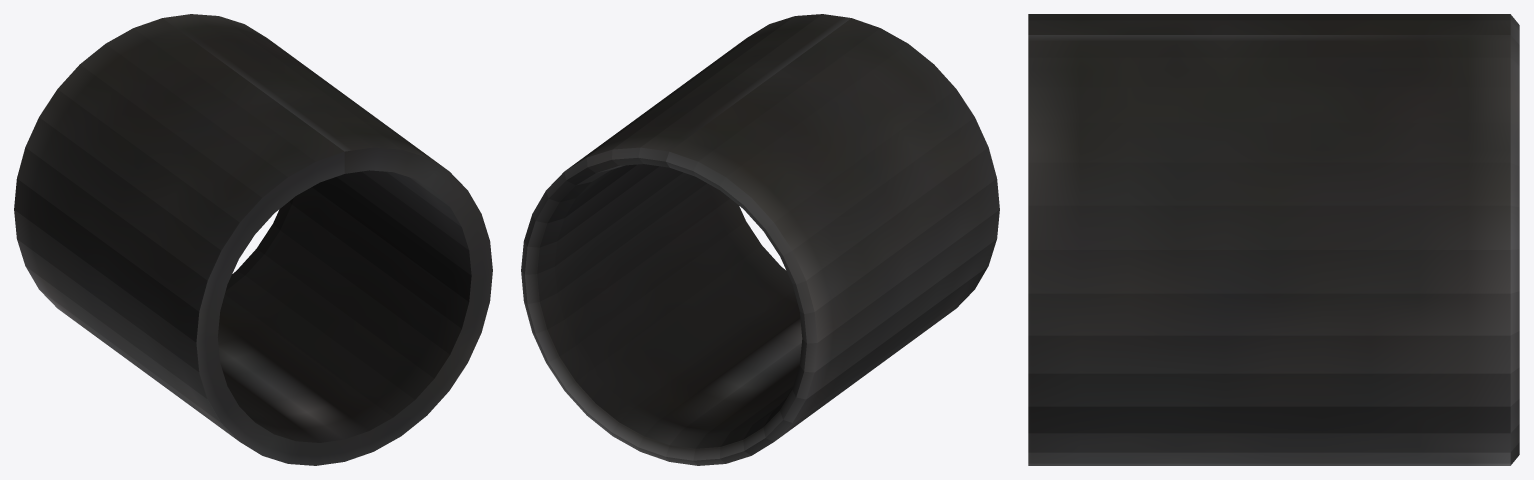
3 renders of one model, left to right at view 1: azimuth 30°, elevation 25°; view 2: azimuth 150°, elevation 25°; view 3: azimuth 270°, elevation 25°, orthographic. The views are drawn at different scales.
Visible parts, largest first — view 1: TW_6698c9c636ba38d291017711_PZ_Import; view 2: TW_6698c9c636ba38d291017711_PZ_Import; view 3: TW_6698c9c636ba38d291017711_PZ_Import.
Part boxes in pixels (left/top/right/bottom): TW_6698c9c636ba38d291017711_PZ_Import: left=14, top=14, right=492, bottom=465; TW_6698c9c636ba38d291017711_PZ_Import: left=521, top=14, right=999, bottom=465; TW_6698c9c636ba38d291017711_PZ_Import: left=1028, top=14, right=1519, bottom=465.
Size of the model in its own units: 0.00907 by 0.00985 by 0.00907.
1 material, 1 textured.
